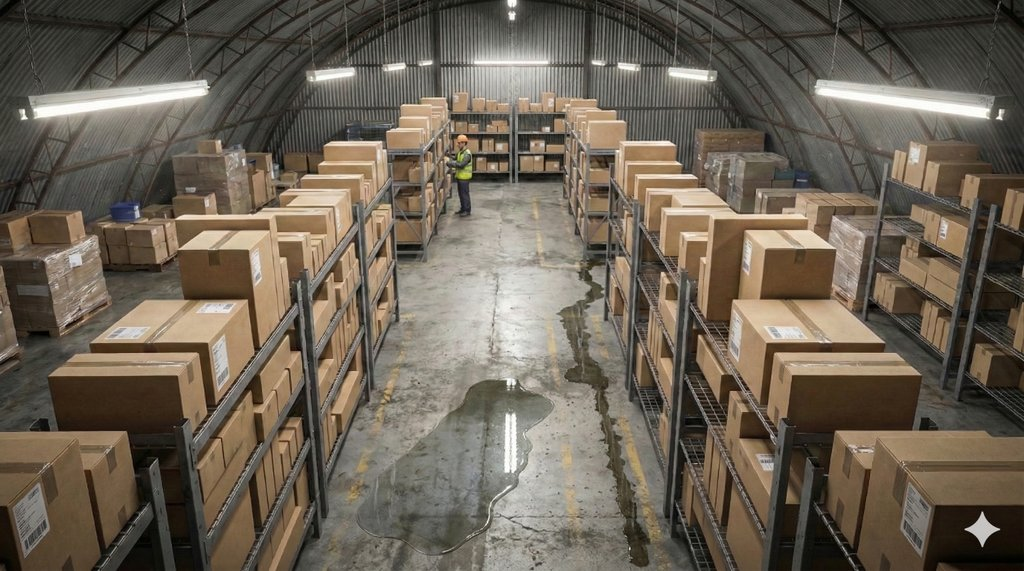empty_shelf: (981, 279, 1019, 338), (987, 224, 1020, 290), (890, 182, 928, 236), (1000, 358, 1024, 417)
person: (451, 128, 498, 234)
safety_helmet: (456, 133, 474, 143)
safety_vest: (457, 153, 478, 191)
spill: (361, 350, 550, 567), (555, 271, 653, 563)
